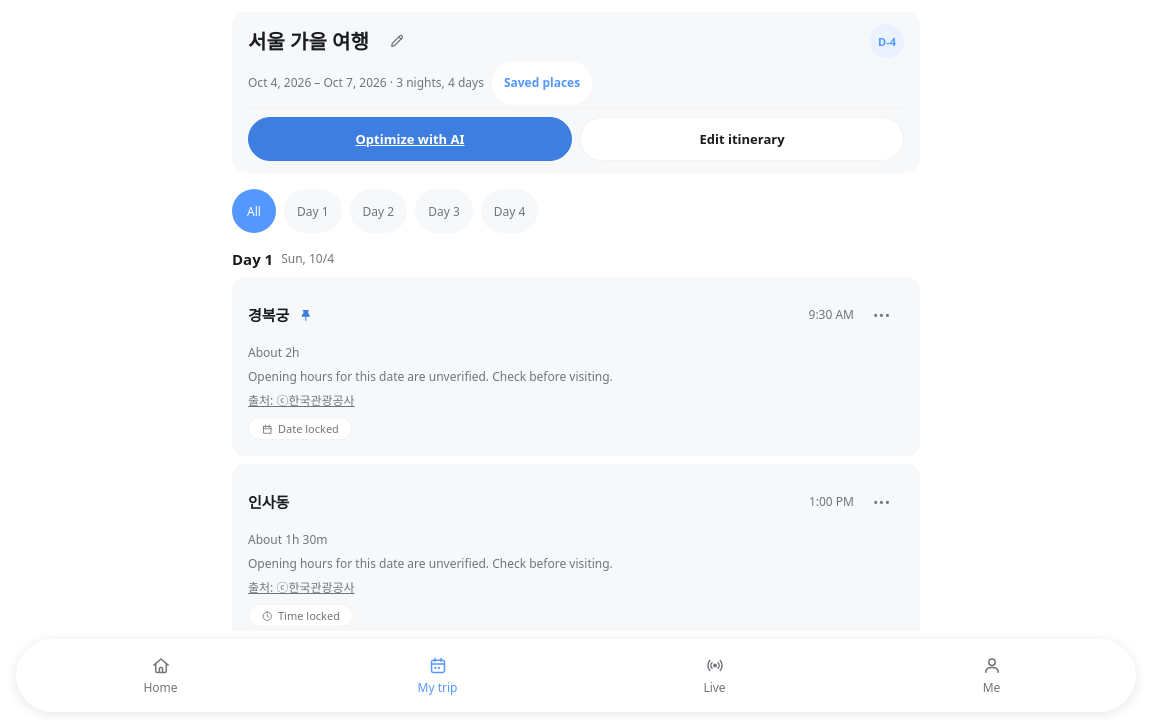
Test case: FE-305-T1 the sheet names what the swap does to the locks › says nothing is released for a stop with no place lock
Click the button "•••" next to "1:00 PM" at (882, 502), box [860, 480, 904, 524]
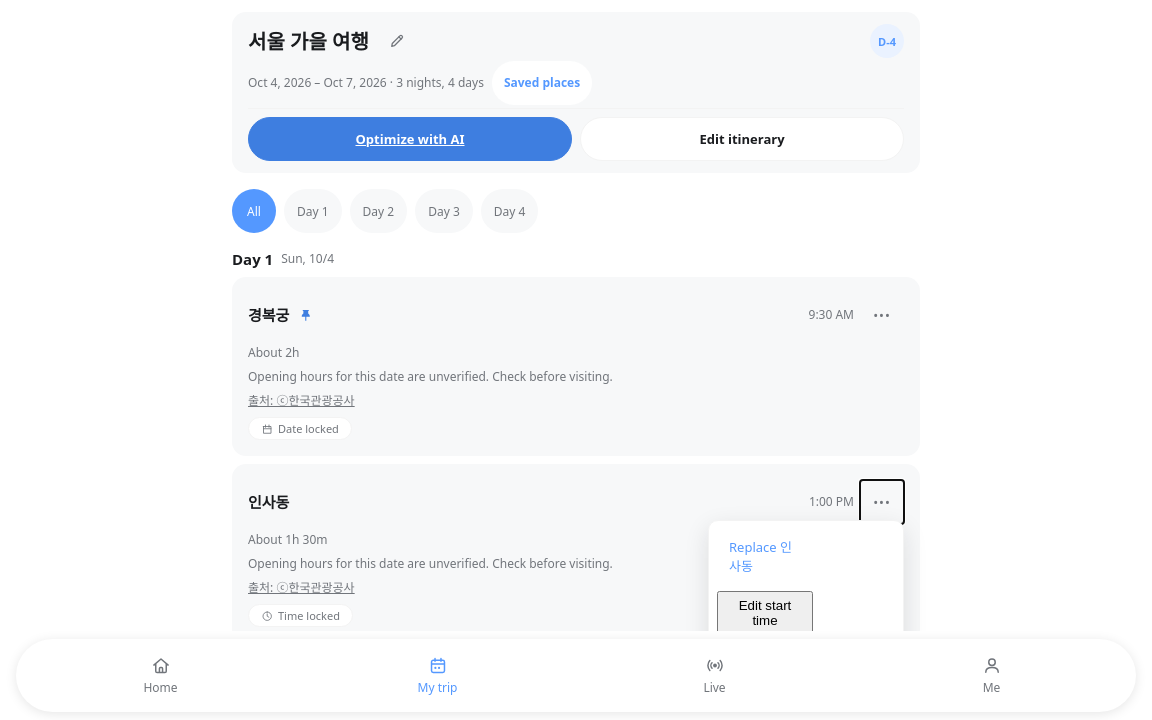
Click the button "Replace 인사동" at (765, 556), box [717, 529, 813, 583]
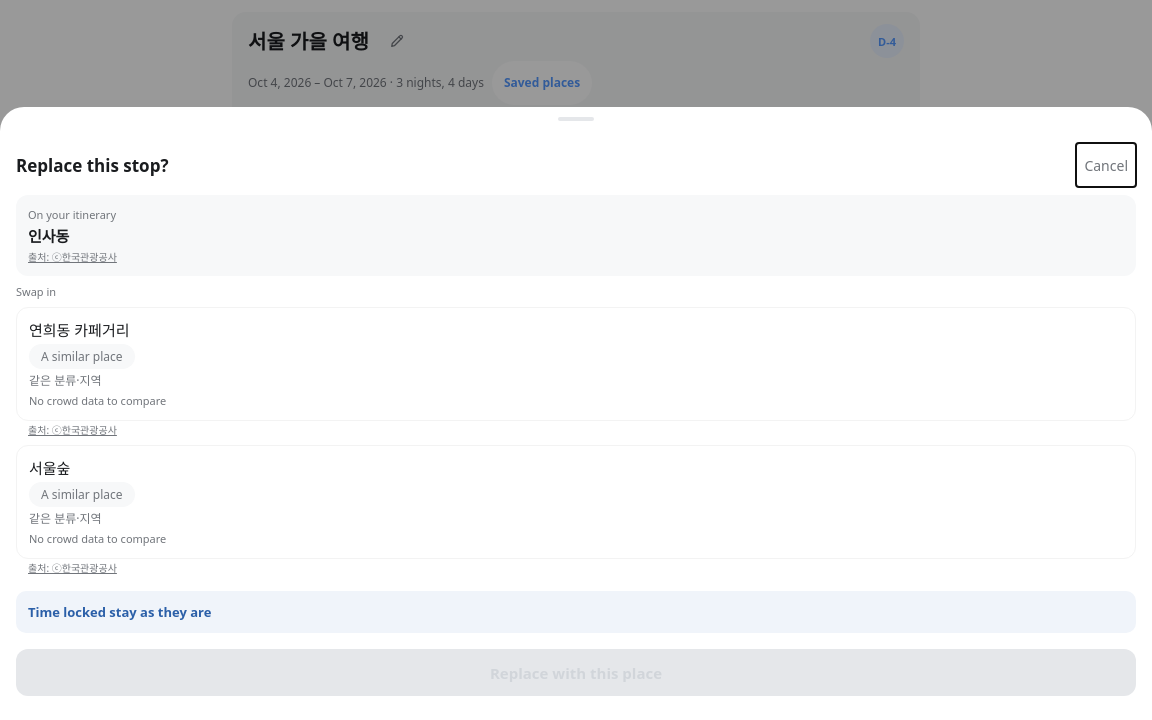
Expected: the text "연희동 카페거리" is shown, [29, 320, 130, 340]
